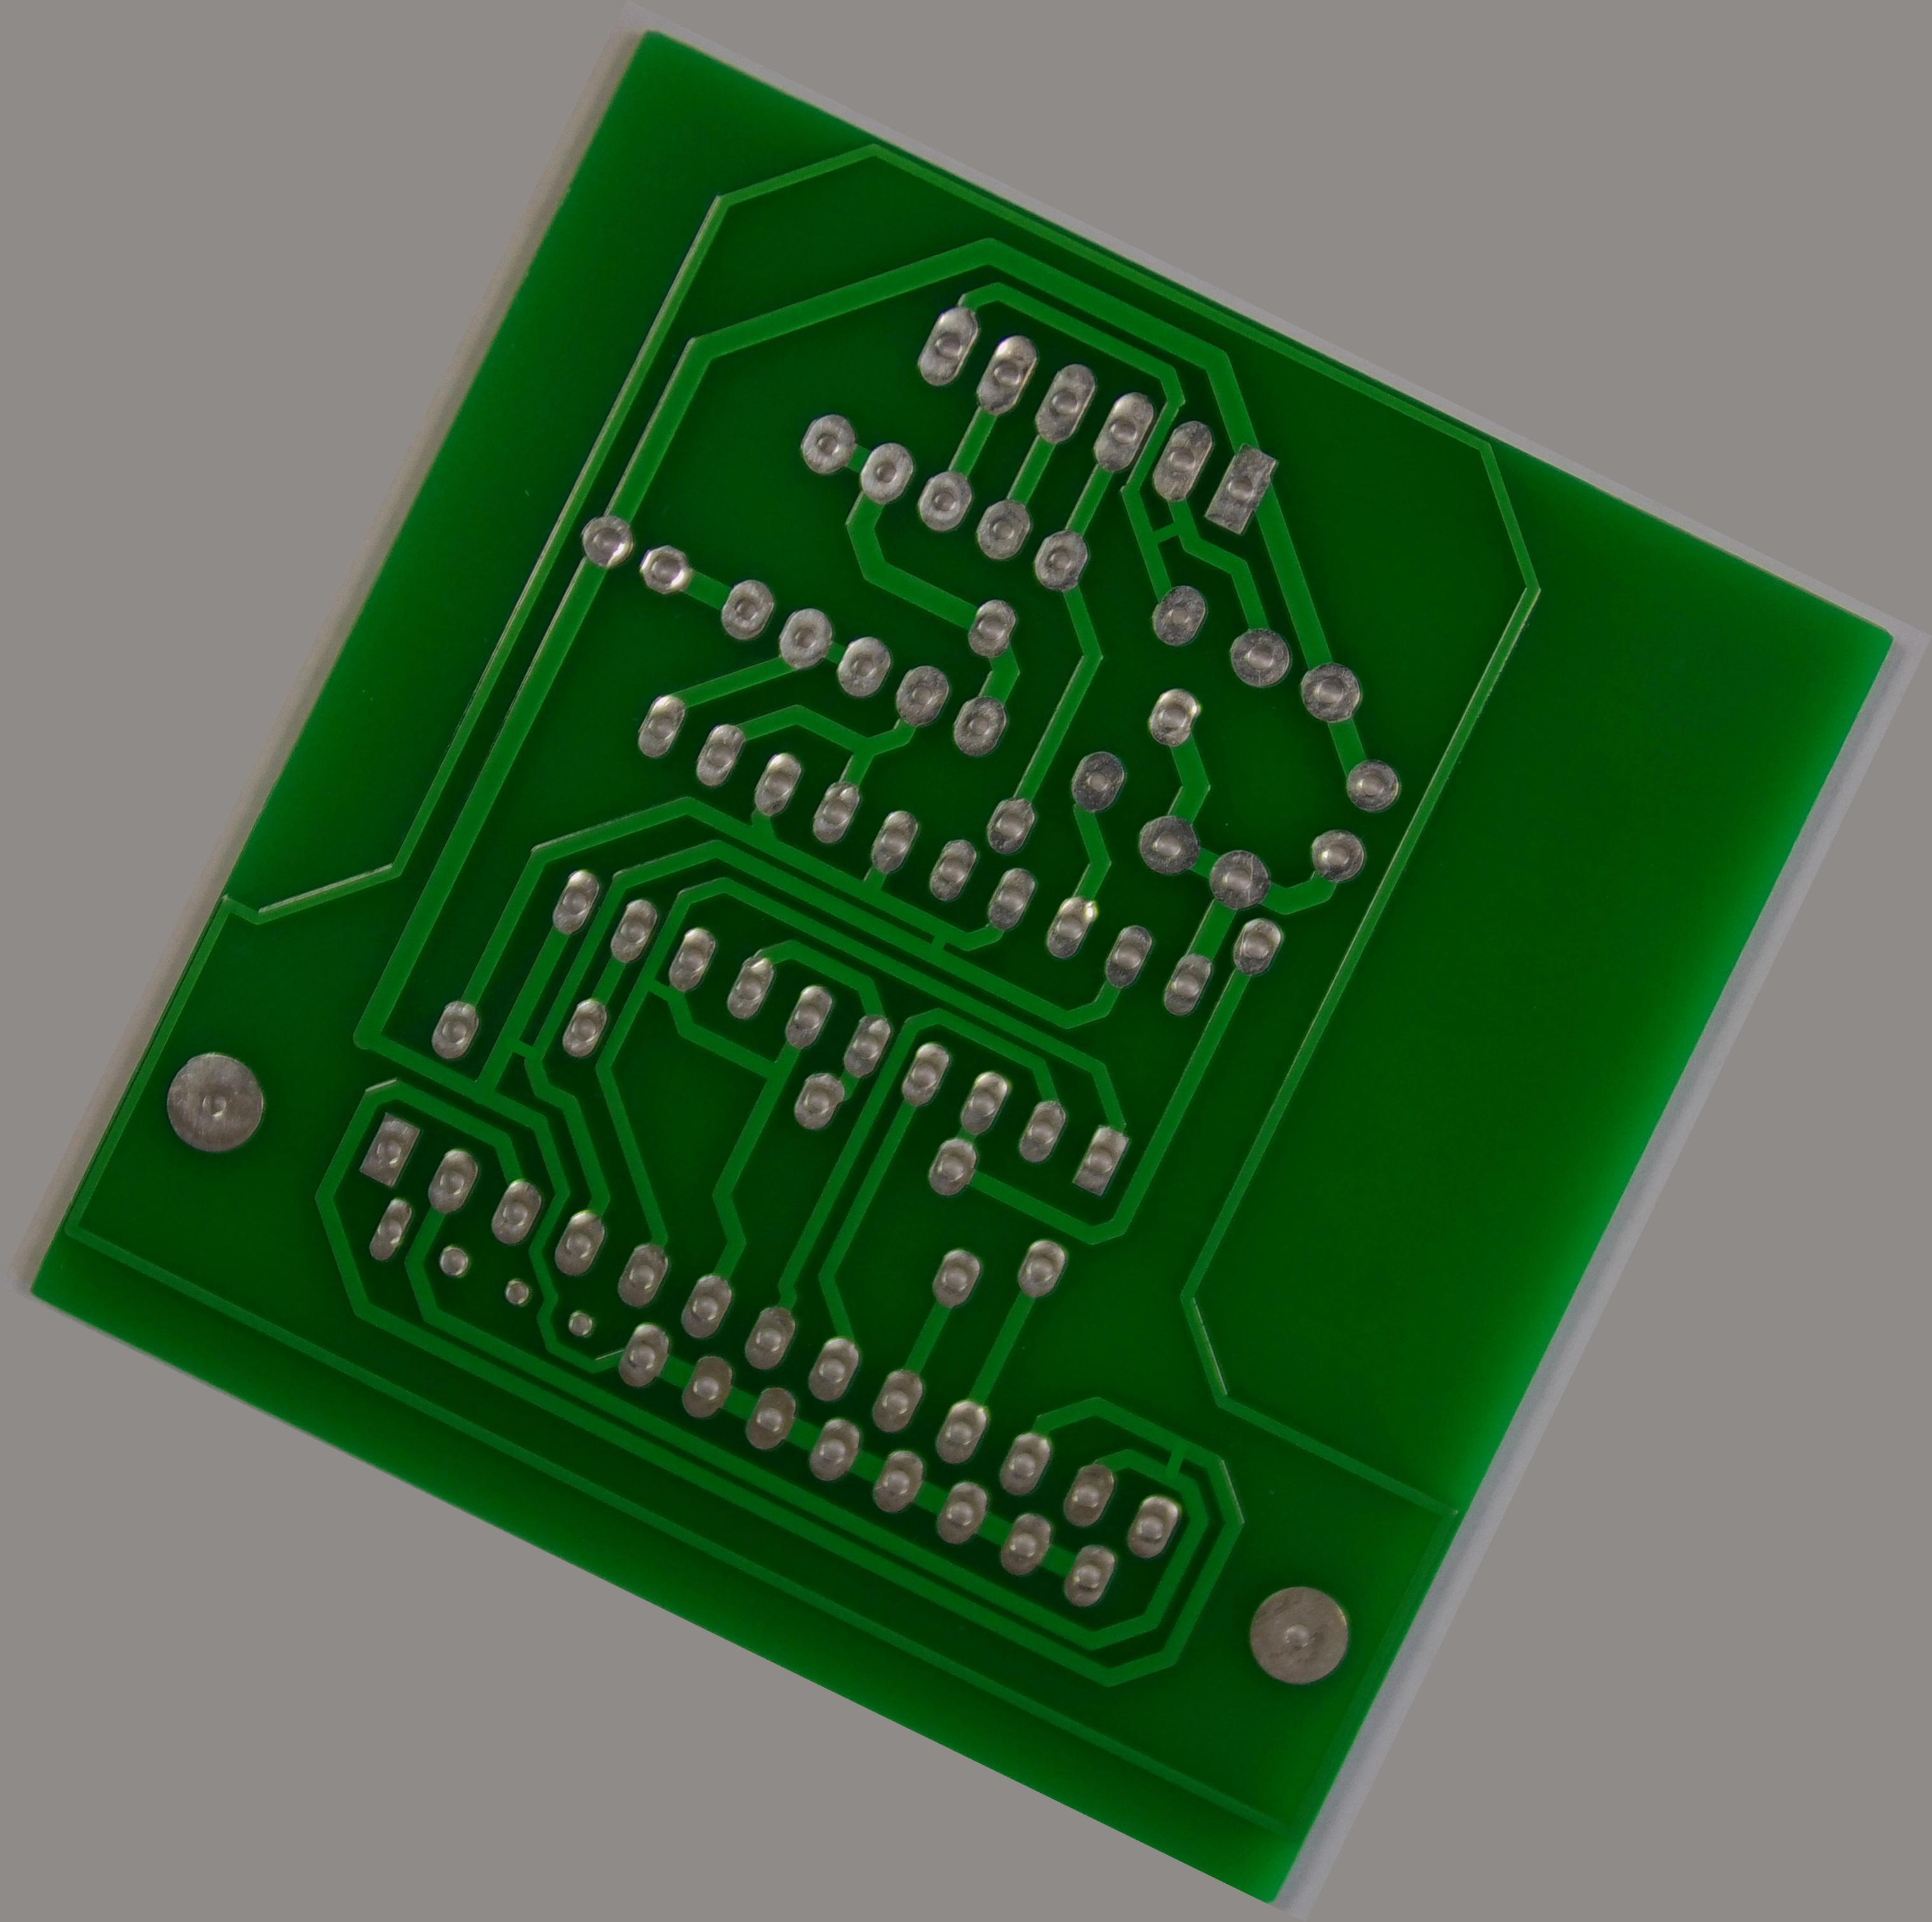short: (1123, 488, 1207, 572), (621, 949, 707, 1031), (1137, 1419, 1214, 1501), (475, 1009, 558, 1084), (899, 903, 975, 975)
